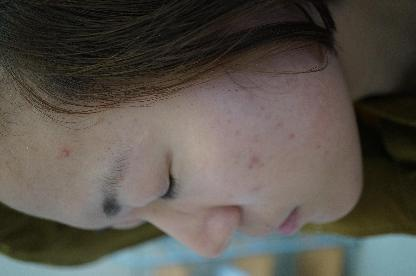Papules: (57, 142, 76, 161)
acne scar: (246, 149, 262, 168), (286, 125, 300, 141), (273, 118, 285, 131)
